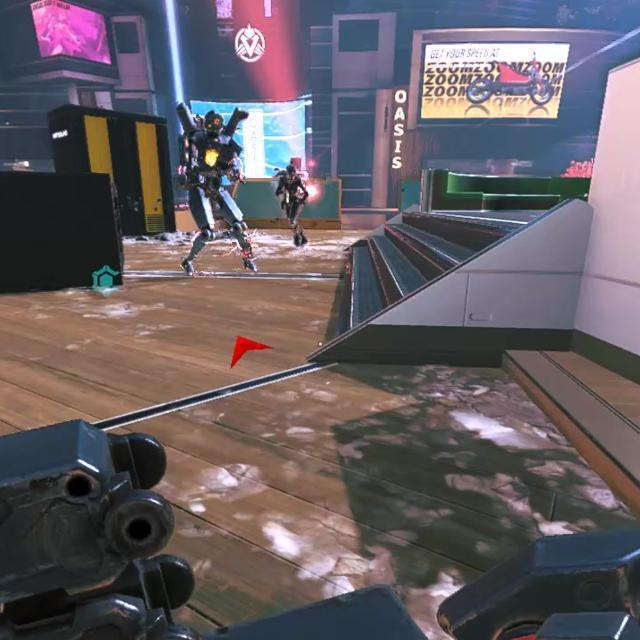avatar: (174, 106, 260, 278), (272, 164, 310, 246)
